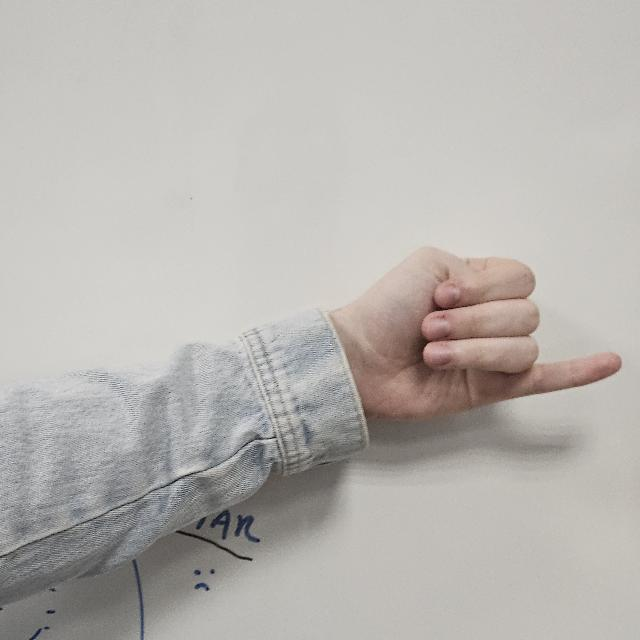Esquerda: (346, 225, 620, 433)
